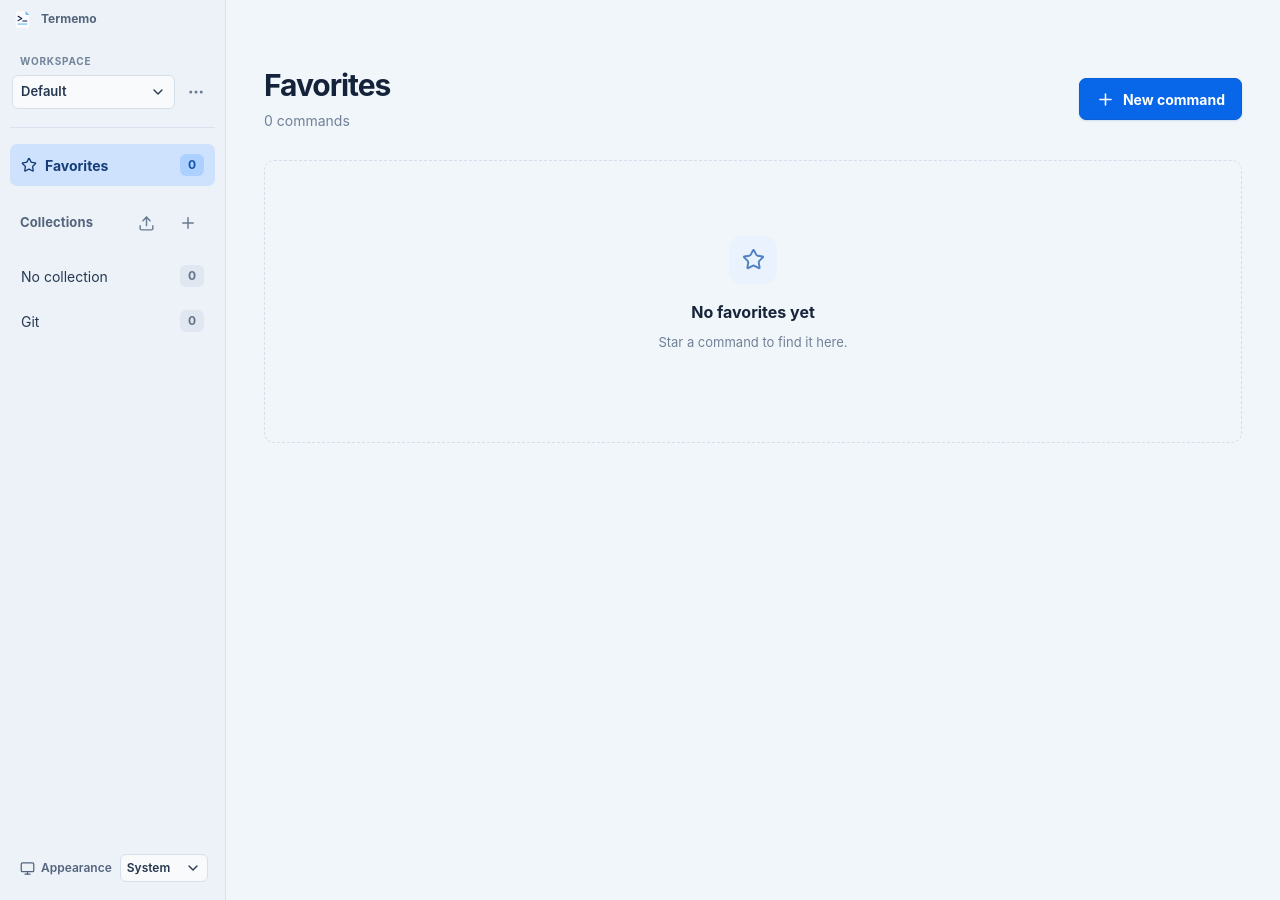
creates nested folders and commands inside them
The width and height of the screenshot is (1280, 900).
Later steps or results of the test are not shown.
Click the button with aria-label "Git, 0 commands" at (112, 321), box left=10, top=300, right=215, bottom=342
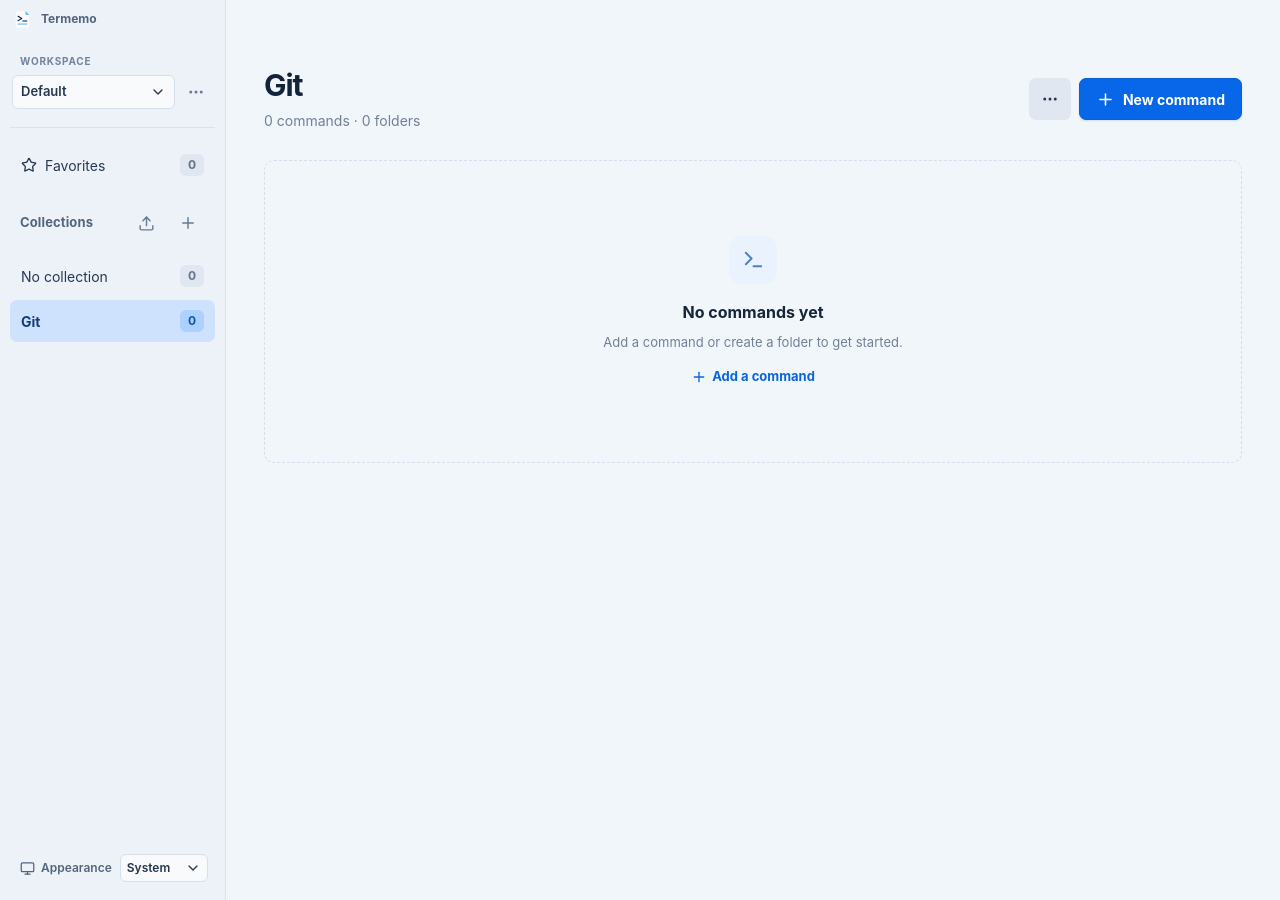
Press ArrowDown in the button named "Collection actions", box left=1029, top=78, right=1071, bottom=120
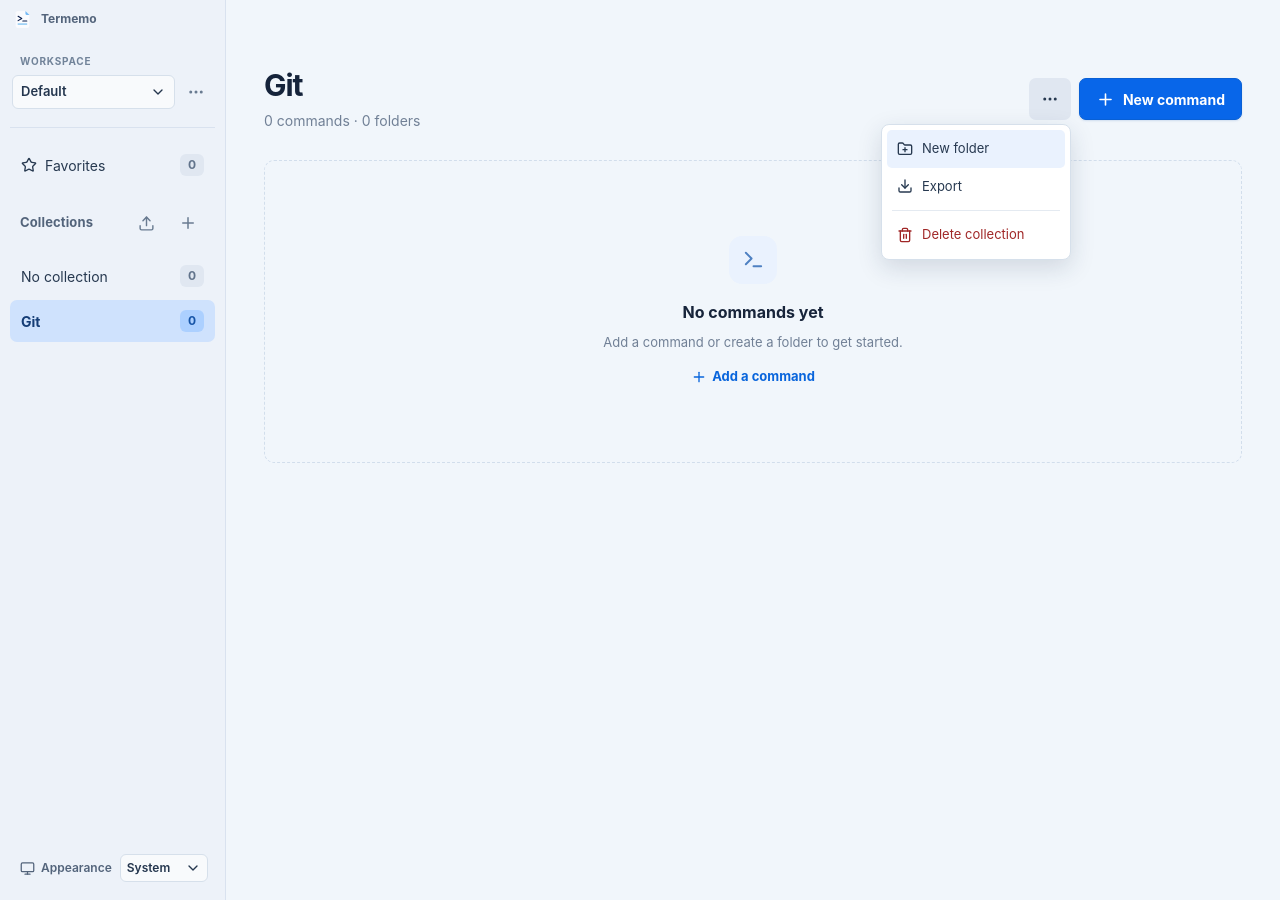
Click the menu item "New folder" at (976, 149), box left=887, top=130, right=1065, bottom=168
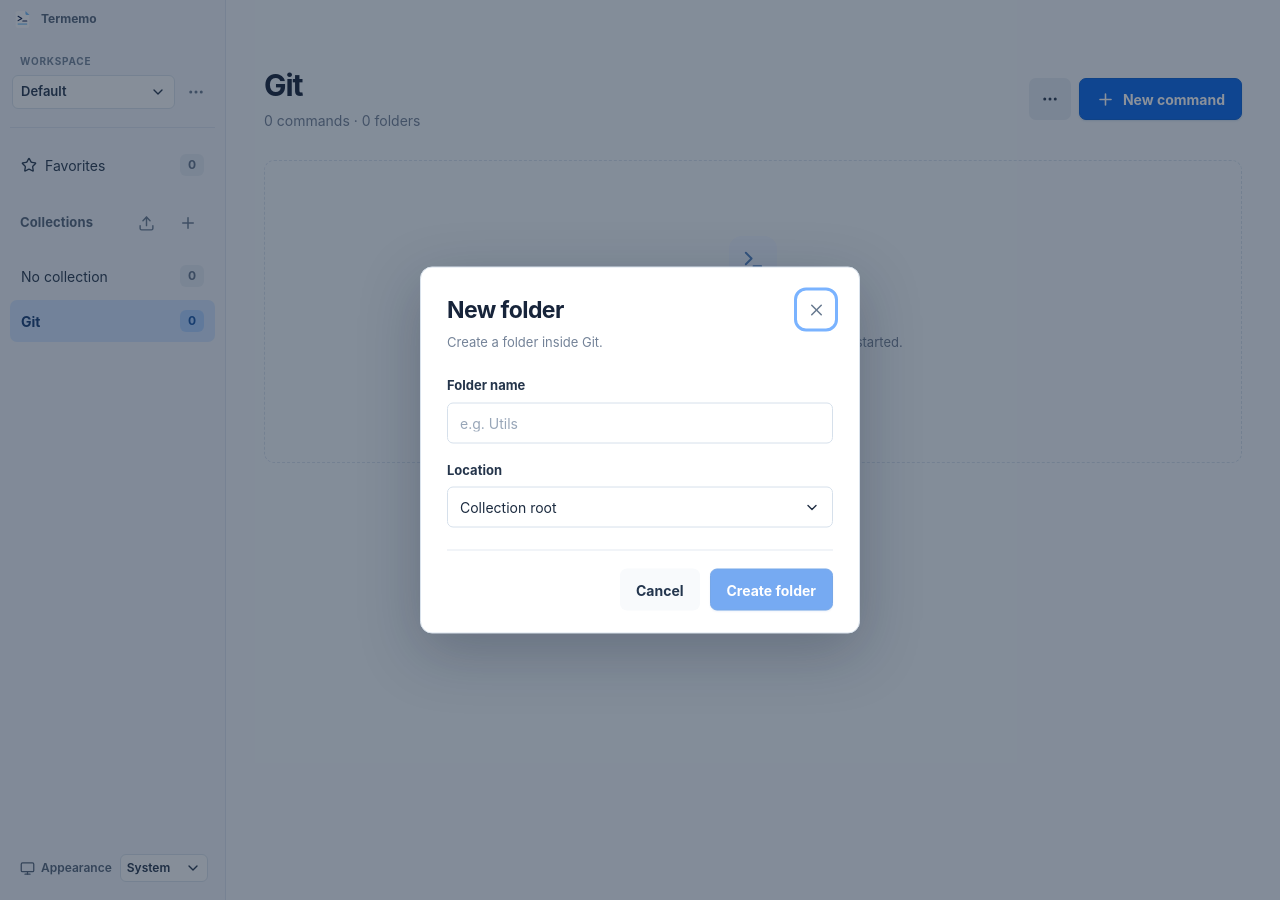
Type "Utils" into the field labelled "Folder name" at (640, 422), box left=447, top=402, right=833, bottom=443
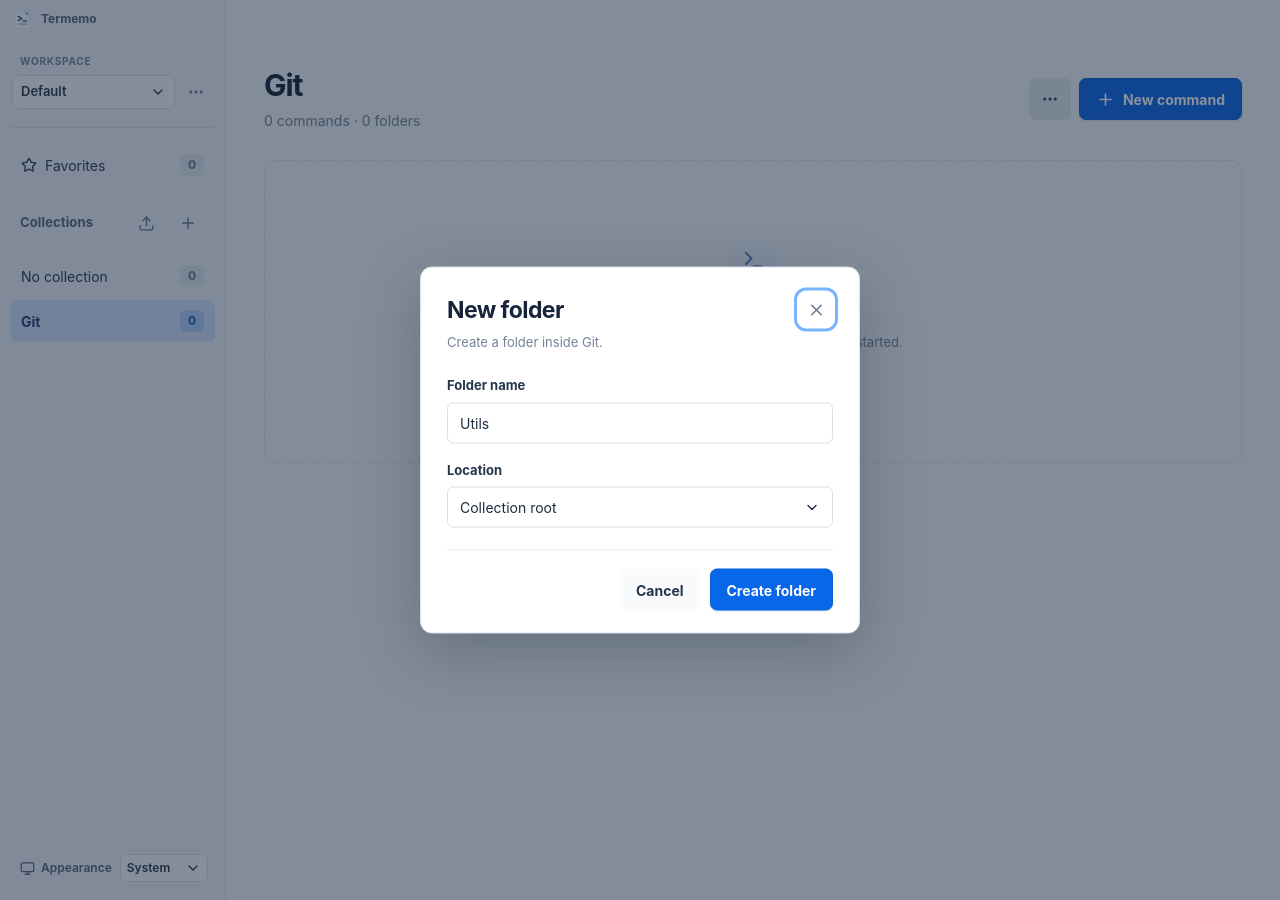
Click the button "Create folder" at (771, 590), box left=710, top=568, right=833, bottom=610
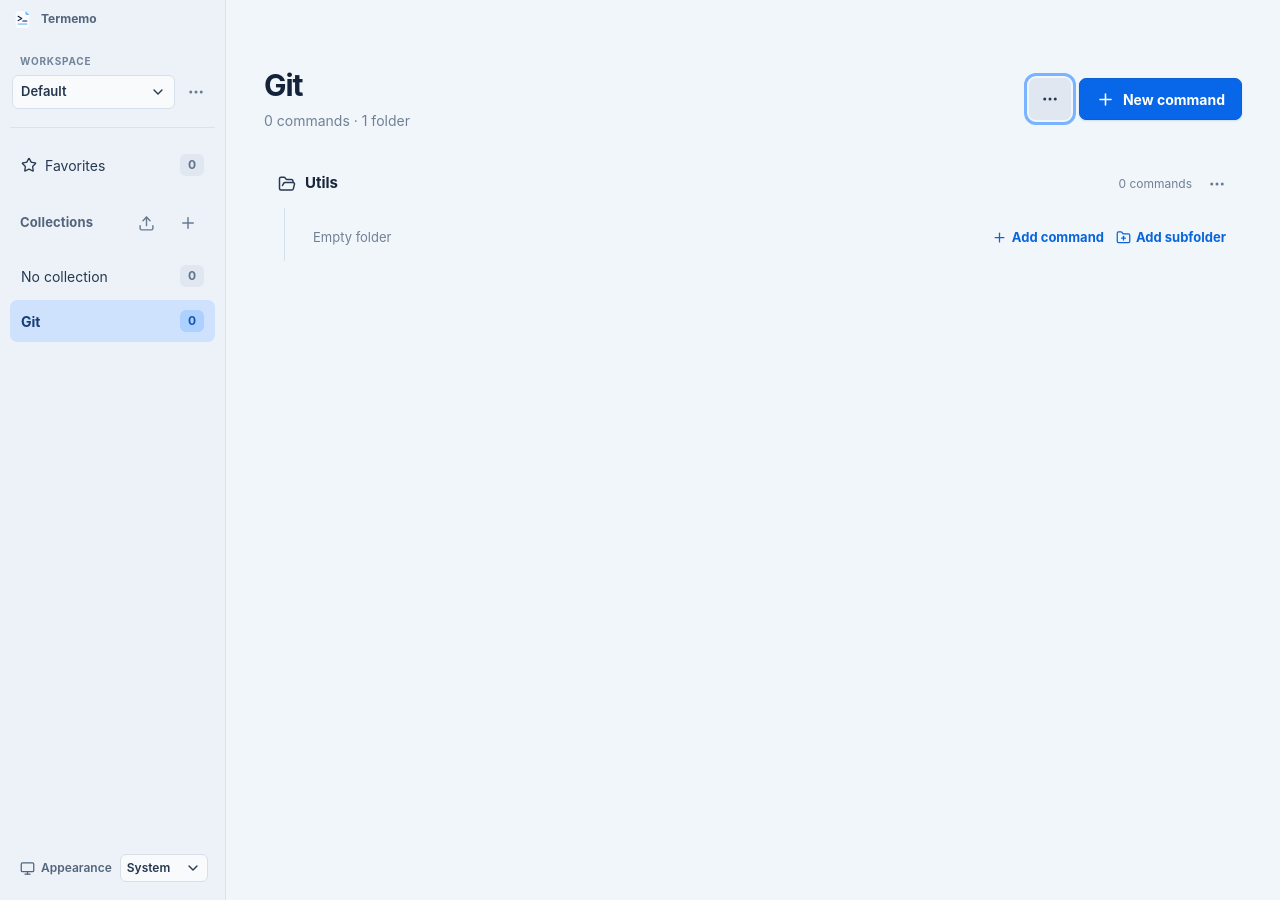
Expected: the text "Empty folder" is shown, left=313, top=228, right=392, bottom=247
